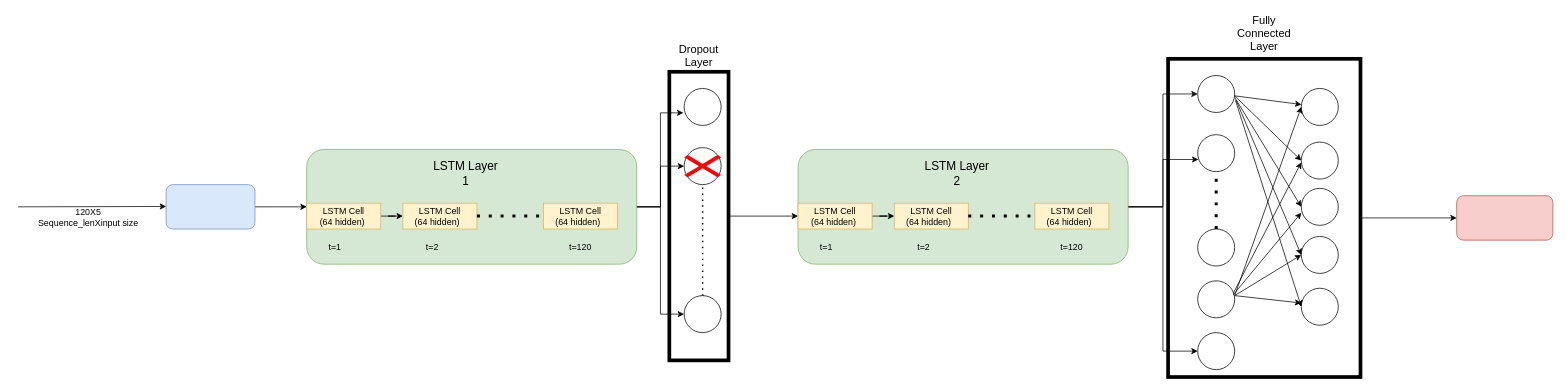
Some shapes in this 1566 by 391 pixel diagram are drawn without their labels. Each missing label, with the centre of its shape:
"Input Layer" belongs at pixel 210 206.
"label prob vector 1X5" belongs at pixel 1504 217.
